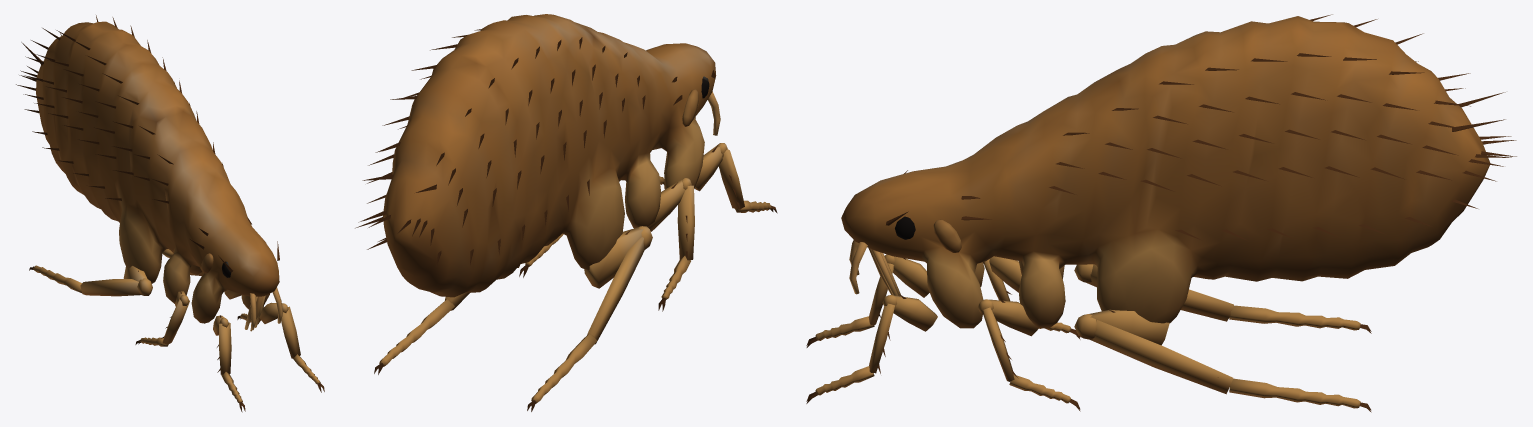
File: RatFlea.fbx
3 renders of one model, left to right at view 1: azimuth 30°, elevation 25°; view 2: azimuth 150°, elevation 25°; view 3: azimuth 270°, elevation 25°, orthographic. The views are drawn at different scales.
Visible parts, largest first — view 1: RatFlea; view 2: RatFlea; view 3: RatFlea.
Part boxes in pixels (left/top/right/bottom): RatFlea: left=16, top=15, right=324, bottom=412; RatFlea: left=355, top=14, right=777, bottom=411; RatFlea: left=806, top=14, right=1516, bottom=412.
Size of the model in its own units: 0.3174 by 0.6346 by 1.16.
